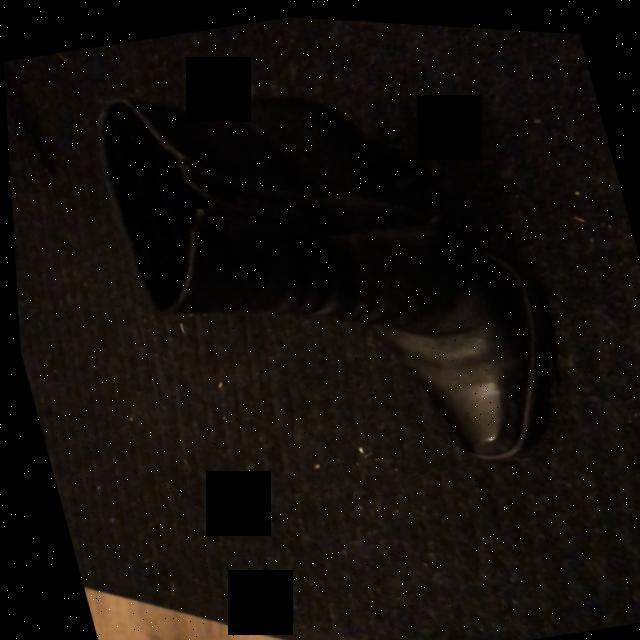shoe: (96, 103, 544, 455)
